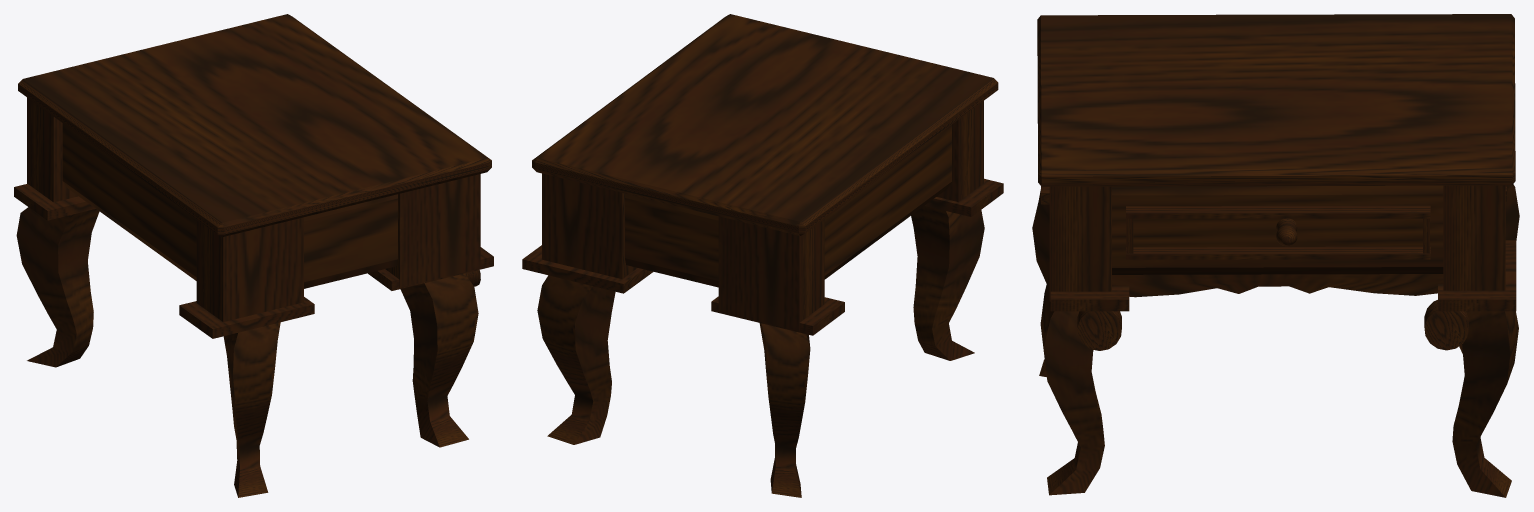
File: mesita.glb
The picture shows the model from 3 angles, left to right: view 1: azimuth 30°, elevation 25°; view 2: azimuth 150°, elevation 25°; view 3: azimuth 270°, elevation 25°; orthographic projection. The views are drawn at different scales.
Visible parts, largest first — view 1: pasted__pasted__pCube3, pasted__pasted__pasted__pCube3, pasted__pasted__pasted__pCube4, pasted__pasted__pasted__pCube6, pasted__pasted__pCube92, pasted__pCube4, pasted__pasted__pCube6, pasted__pasted__pCube4, pasted__pasted__pCube7, pasted__pasted__pasted__pCube7, pasted__pasted__pCube12; view 2: pasted__pasted__pCube3, pasted__pasted__pasted__pCube3, pasted__pasted__pCube4, pasted__pCube6, pasted__pasted__pCube6, pasted__pasted__pCube13, pasted__pasted__pCube92, pasted__pasted__pasted__pCube4, pasted__pCube7, pasted__pasted__pCube7, pasted__pasted__pasted__pCube7; view 3: pasted__pasted__pCube3, pasted__pasted__pasted__pCube3, pasted__pCube6, pasted__pasted__pasted__pCube6, pasted__pCube4, pasted__pasted__pCube13, pasted__pasted__pCube63, pasted__pasted__pCube5, pasted__pCube5, pasted__pCube7, pasted__pasted__pCube12, pasted__pasted__pCylinder49 (+4 smaller).
Boxes of the visible parts, x1=… form: pasted__pasted__pCube3: x1=18, y1=14, x2=491, y2=236; pasted__pasted__pasted__pCube3: x1=62, y1=123, x2=397, y2=288; pasted__pasted__pasted__pCube4: x1=196, y1=217, x2=303, y2=321; pasted__pasted__pasted__pCube6: x1=400, y1=273, x2=478, y2=447; pasted__pasted__pCube92: x1=16, y1=207, x2=99, y2=367; pasted__pCube4: x1=385, y1=174, x2=480, y2=287; pasted__pasted__pCube6: x1=223, y1=322, x2=280, y2=497; pasted__pasted__pCube4: x1=27, y1=97, x2=77, y2=202; pasted__pasted__pCube7: x1=179, y1=297, x2=314, y2=338; pasted__pasted__pasted__pCube7: x1=14, y1=184, x2=95, y2=220; pasted__pasted__pCube12: x1=368, y1=247, x2=493, y2=290; pasted__pasted__pCube3: x1=532, y1=14, x2=998, y2=235; pasted__pasted__pasted__pCube3: x1=625, y1=124, x2=951, y2=287; pasted__pasted__pCube4: x1=718, y1=216, x2=824, y2=331; pasted__pCube6: x1=537, y1=275, x2=615, y2=444; pasted__pasted__pCube6: x1=911, y1=206, x2=984, y2=360; pasted__pasted__pCube13: x1=542, y1=173, x2=636, y2=278; pasted__pasted__pCube92: x1=759, y1=323, x2=810, y2=497; pasted__pasted__pasted__pCube4: x1=936, y1=101, x2=983, y2=201; pasted__pCube7: x1=522, y1=245, x2=653, y2=293; pasted__pasted__pCube7: x1=924, y1=178, x2=1003, y2=216; pasted__pasted__pasted__pCube7: x1=711, y1=296, x2=844, y2=335; pasted__pasted__pCube3: x1=1037, y1=14, x2=1515, y2=186; pasted__pasted__pasted__pCube3: x1=1112, y1=185, x2=1443, y2=274; pasted__pCube6: x1=1452, y1=311, x2=1518, y2=497; pasted__pasted__pasted__pCube6: x1=1040, y1=273, x2=1104, y2=495; pasted__pCube4: x1=1049, y1=186, x2=1111, y2=301; pasted__pasted__pCube13: x1=1443, y1=185, x2=1505, y2=290; pasted__pasted__pCube63: x1=1112, y1=274, x2=1443, y2=297; pasted__pasted__pCube5: x1=1126, y1=205, x2=1430, y2=218; pasted__pCube5: x1=1126, y1=246, x2=1430, y2=259; pasted__pCube7: x1=1438, y1=240, x2=1516, y2=311; pasted__pasted__pCube12: x1=1050, y1=286, x2=1129, y2=311; pasted__pasted__pCylinder49: x1=1424, y1=300, x2=1468, y2=350.
Size of the model in its own units: 0.0494 by 0.0446 by 0.059.
1 material, 1 textured.
